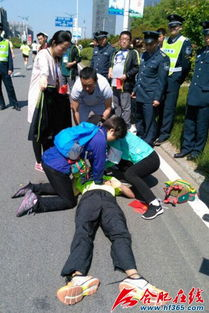10+: (1, 17, 209, 310)
down: (53, 156, 169, 313)
